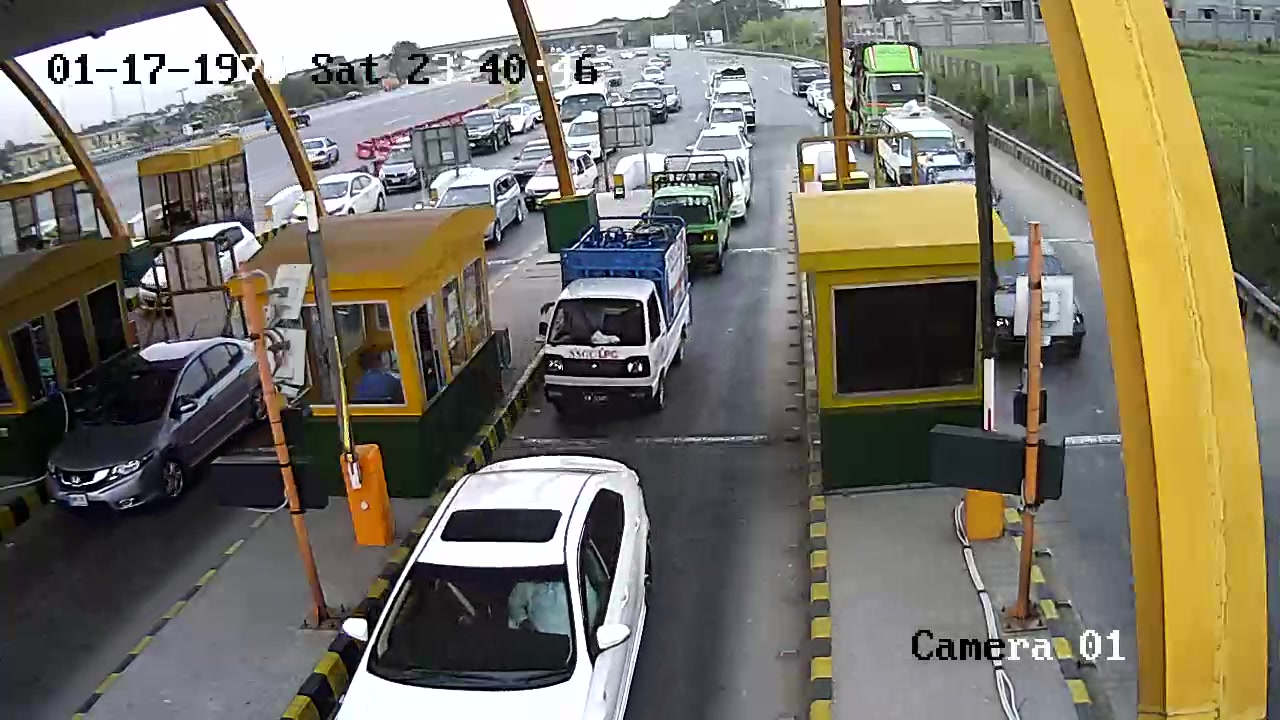F1: (527, 206, 705, 423)
